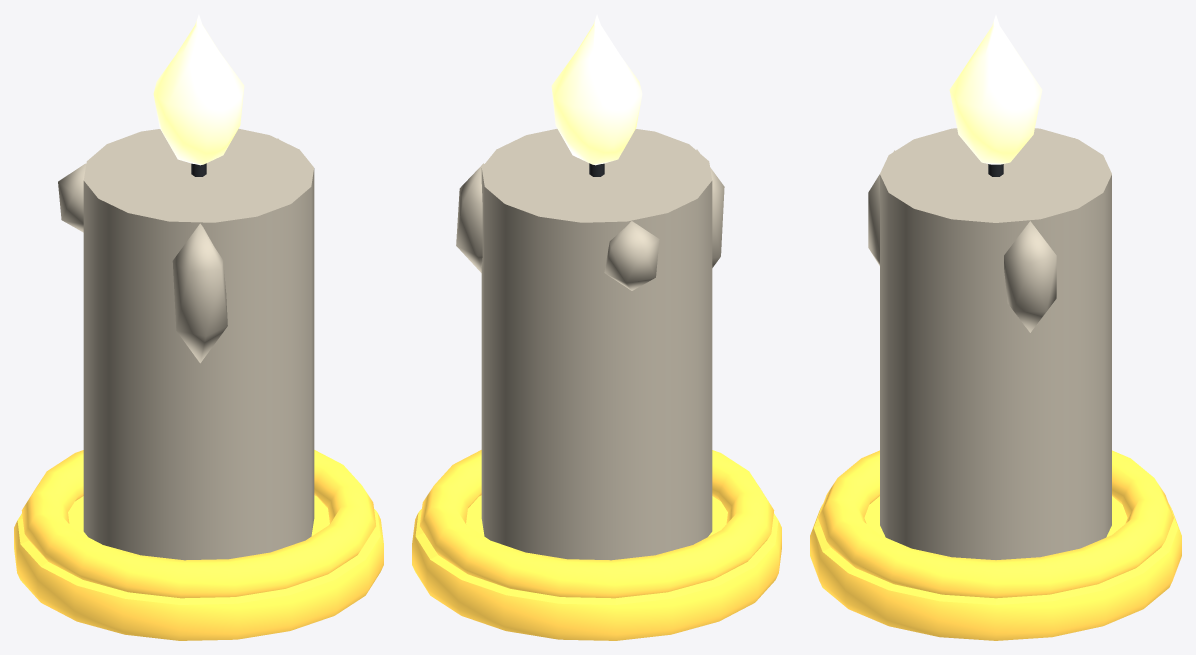
File: vela.glb
The picture shows the model from 3 angles, left to right: view 1: azimuth 30°, elevation 25°; view 2: azimuth 150°, elevation 25°; view 3: azimuth 270°, elevation 25°; orthographic projection.
Visible parts, largest first — view 1: vela; view 2: vela; view 3: vela.
Part boxes in pixels (box(x1,y1,x2,y2)): vela: box(14, 14, 383, 640); vela: box(412, 14, 781, 640); vela: box(810, 15, 1181, 640).
Bounding box in the file's own units: 0.48 × 0.788 × 0.48.
